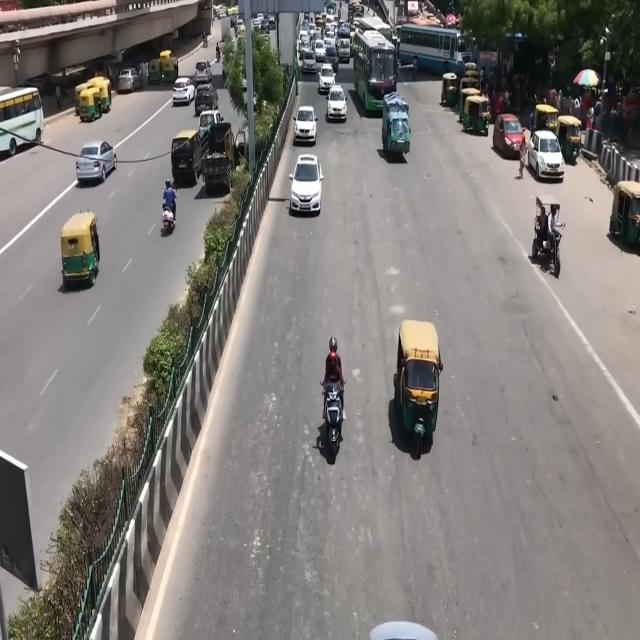auto: (394, 321, 442, 453), (61, 210, 100, 288), (201, 119, 236, 194), (608, 179, 640, 249), (171, 129, 204, 188), (462, 92, 491, 137), (557, 114, 583, 164), (533, 103, 560, 139), (78, 87, 103, 122), (442, 71, 459, 109), (158, 50, 178, 82), (147, 58, 163, 84)
bike-auto: (321, 373, 345, 452), (548, 219, 565, 275), (160, 192, 175, 235), (532, 218, 546, 260), (412, 54, 418, 81), (56, 84, 61, 110), (216, 45, 220, 62)
